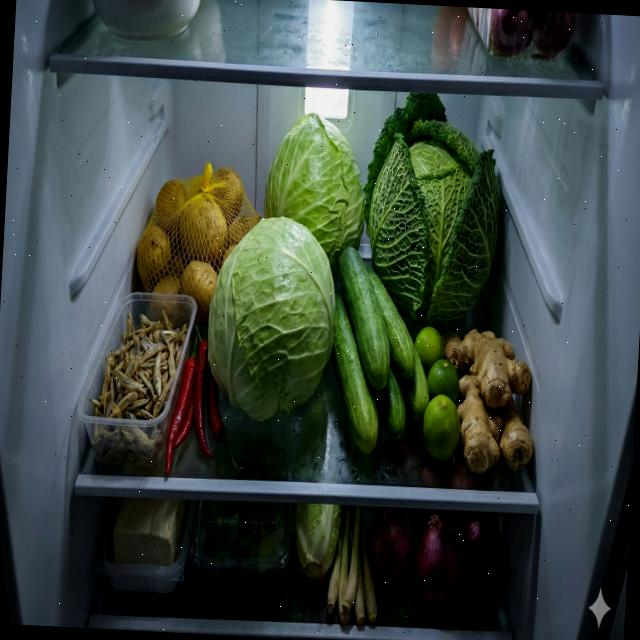apple: (86, 304, 188, 466)
cabbage: (358, 90, 506, 334), (204, 213, 340, 427), (262, 110, 371, 268)
chili: (164, 336, 230, 481)
cucumber: (326, 245, 437, 458)
ginger: (436, 327, 540, 478)
lemongrass: (326, 505, 384, 628)
lime: (408, 326, 466, 463)
potato: (133, 162, 266, 322)
